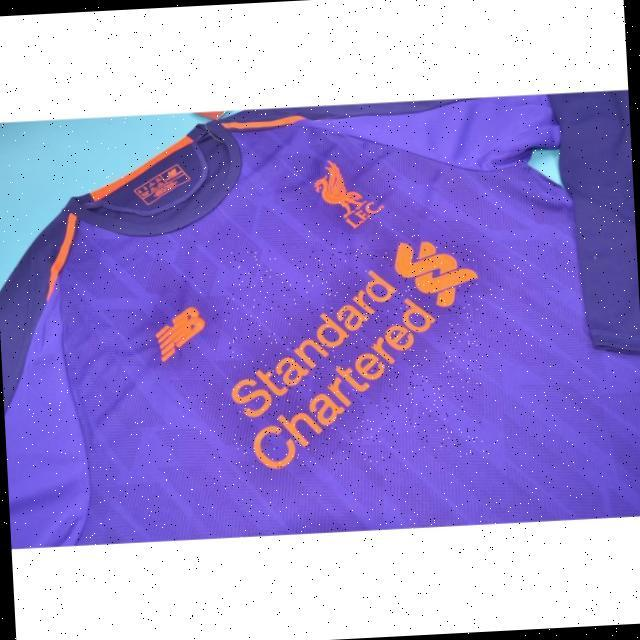Standard Chartered: (225, 240, 487, 470)
